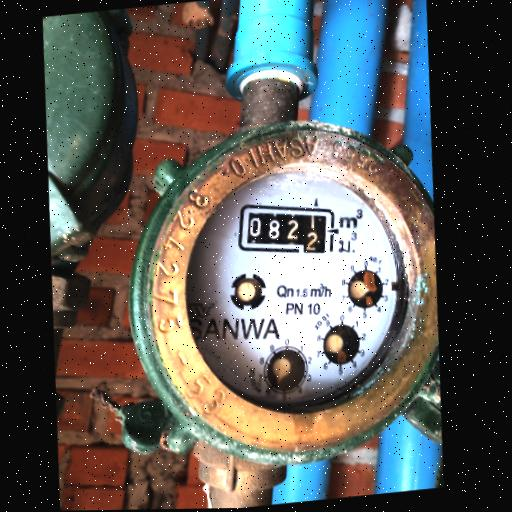0: (244, 210, 270, 246)
1: (300, 213, 330, 255)
2: (277, 211, 308, 247)
8: (261, 212, 287, 246)
border_water_meter_number: (231, 194, 341, 263)
